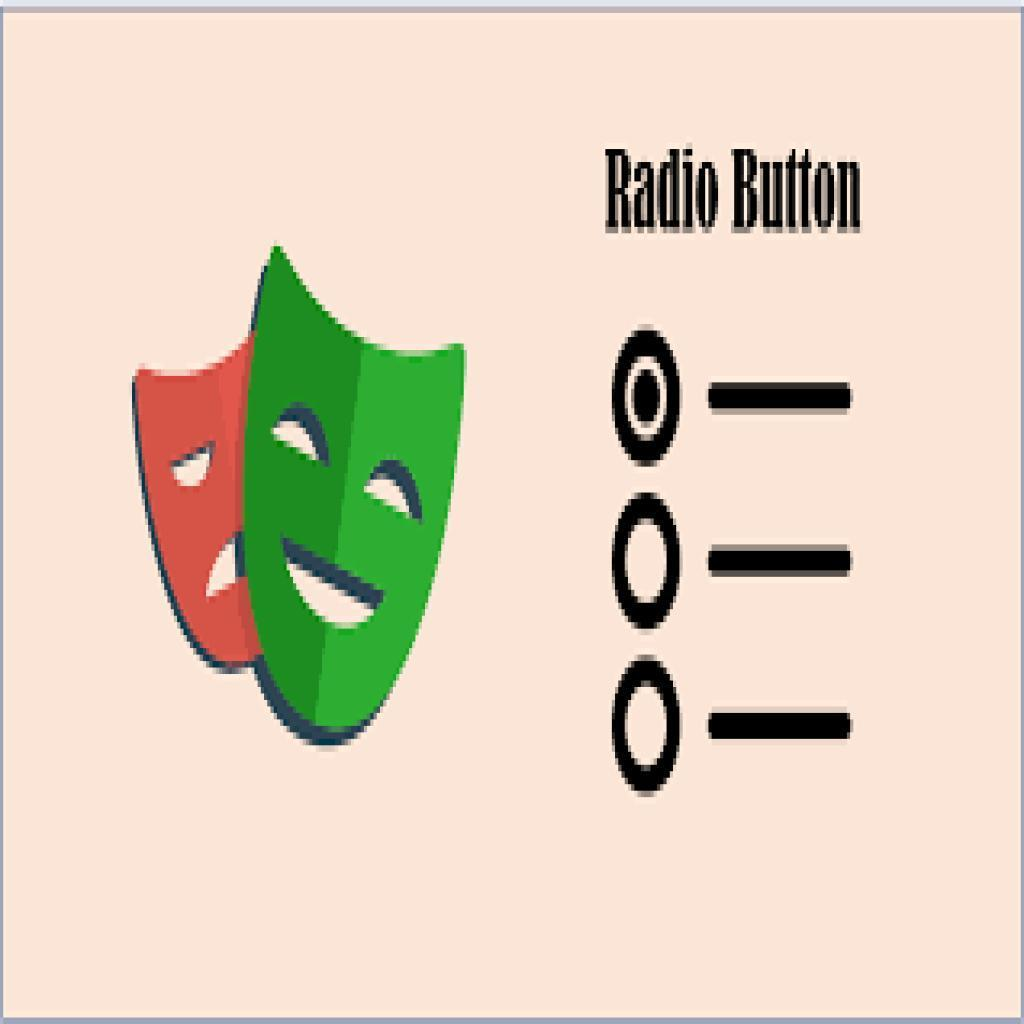radio: (610, 326, 686, 471), (614, 652, 683, 796), (611, 490, 682, 628)
